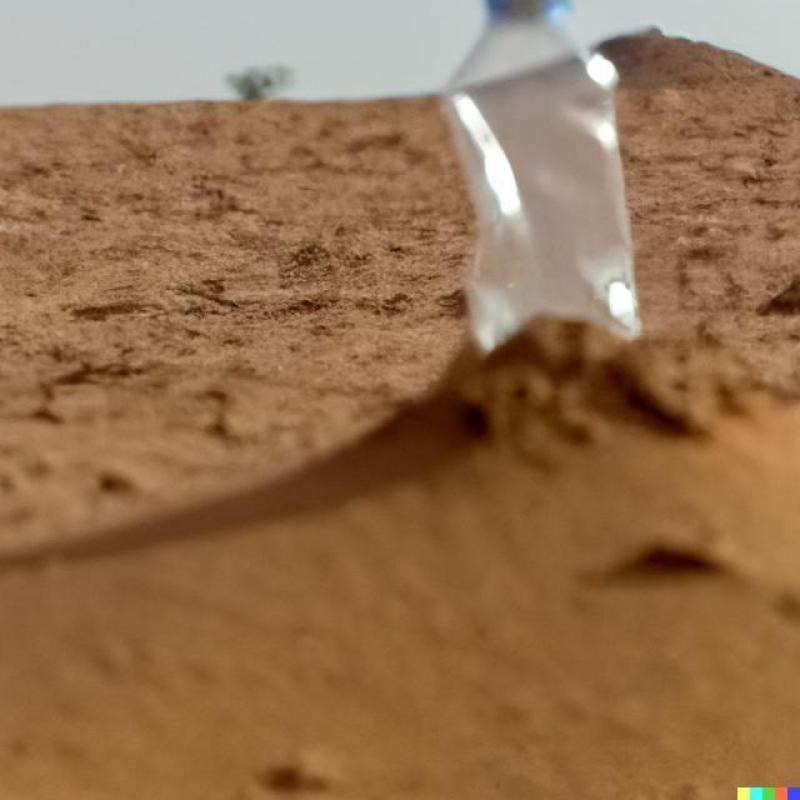botella: (437, 0, 641, 358)
